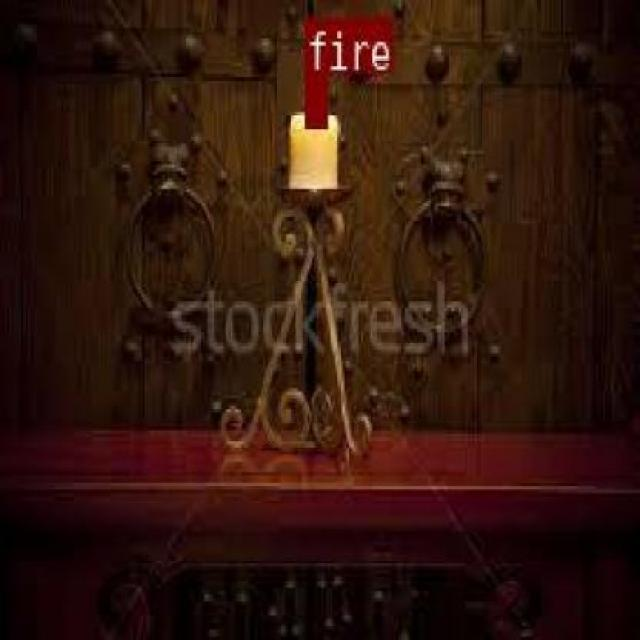fire: (304, 72, 324, 125)
